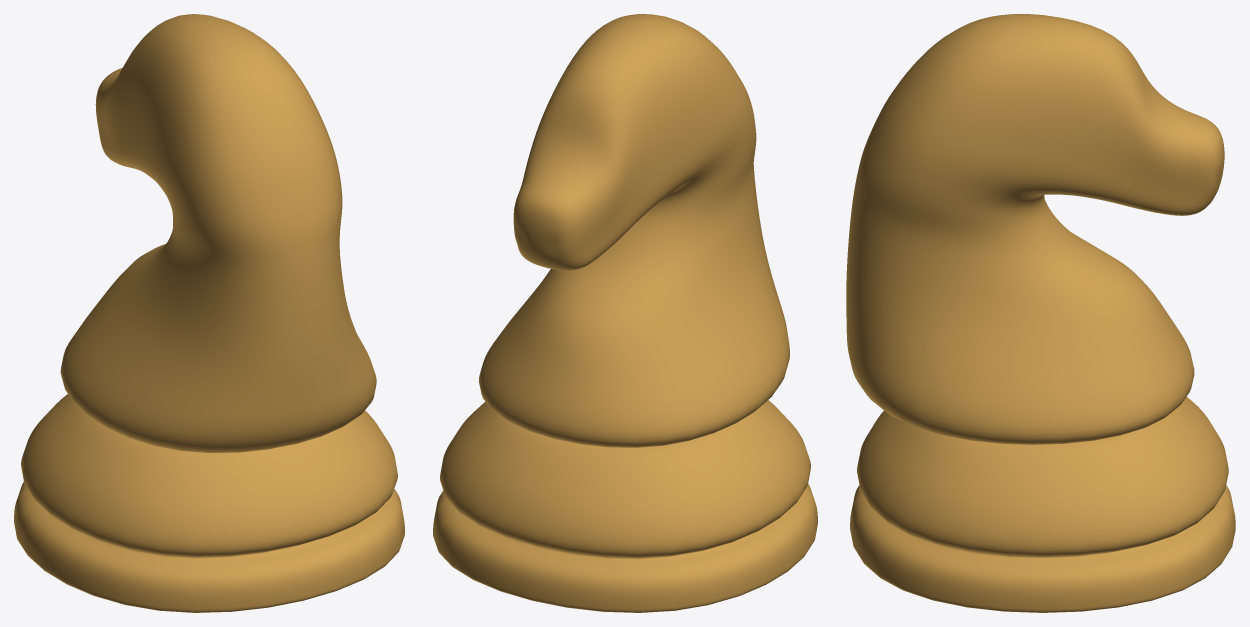
Rendered from knight.obj.
3 views of the same model, side by side, from view 1: azimuth 30°, elevation 25°; view 2: azimuth 150°, elevation 25°; view 3: azimuth 270°, elevation 25° (orthographic). The views are drawn at different scales.
Visible parts, largest first — view 1: fou.003; view 2: fou.003; view 3: fou.003.
Part boxes in pixels (<box>): fou.003: <box>14,14,404,612</box>; fou.003: <box>433,14,817,612</box>; fou.003: <box>846,14,1235,612</box>.
Bounding box in the file's own units: 0.4148 × 0.6108 × 0.4189.
